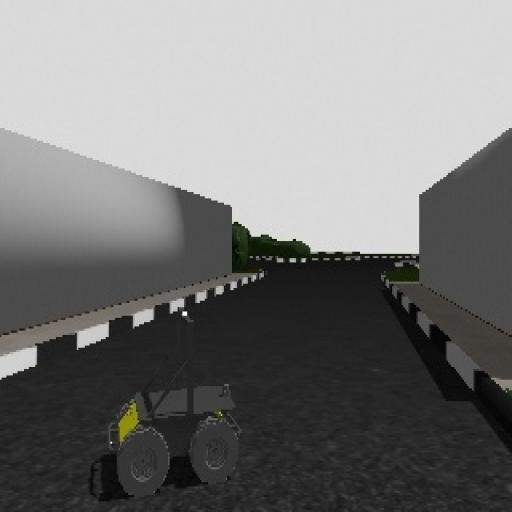huskya200: (93, 286, 271, 509)
